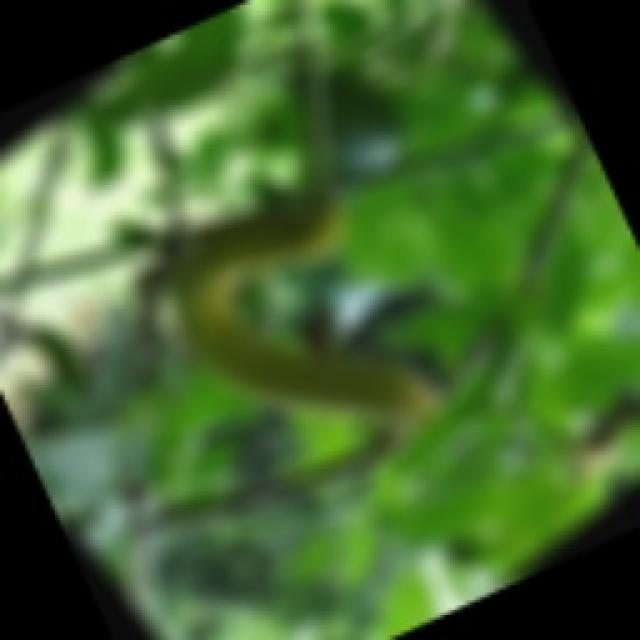Elderberry_rust: (156, 156, 458, 450)
